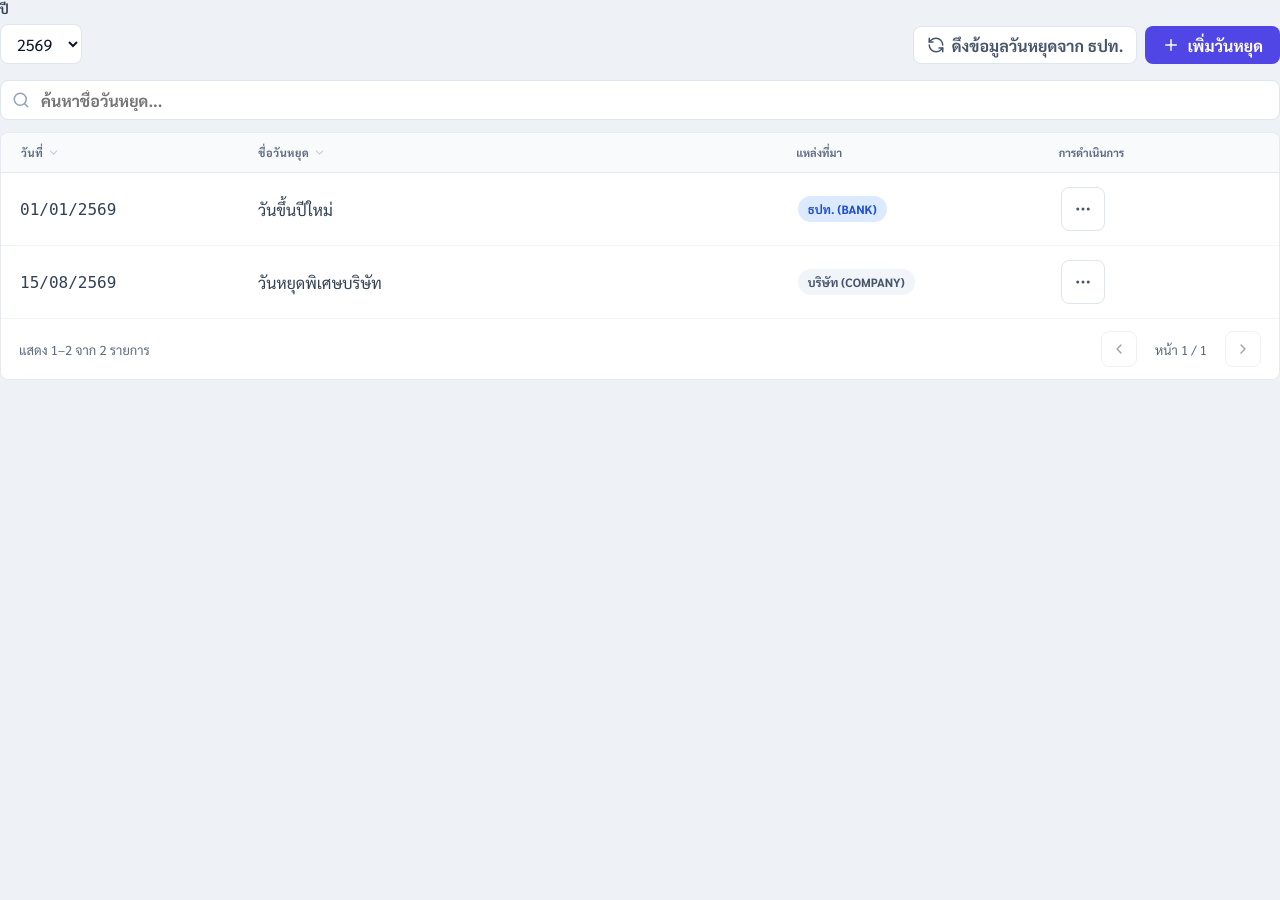
Scenario: HolidaysTab › shows the 409 duplicate-date message inline and offers "แก้ไขรายการเดิม" for a row already on screen
The width and height of the screenshot is (1280, 900).
Check: the text "วันขึ้นปีใหม่" is shown, box [257,198,785,220]
Click the button "เพิ่มวันหยุด". click: (1213, 45)
box: [1145,26,1279,64]
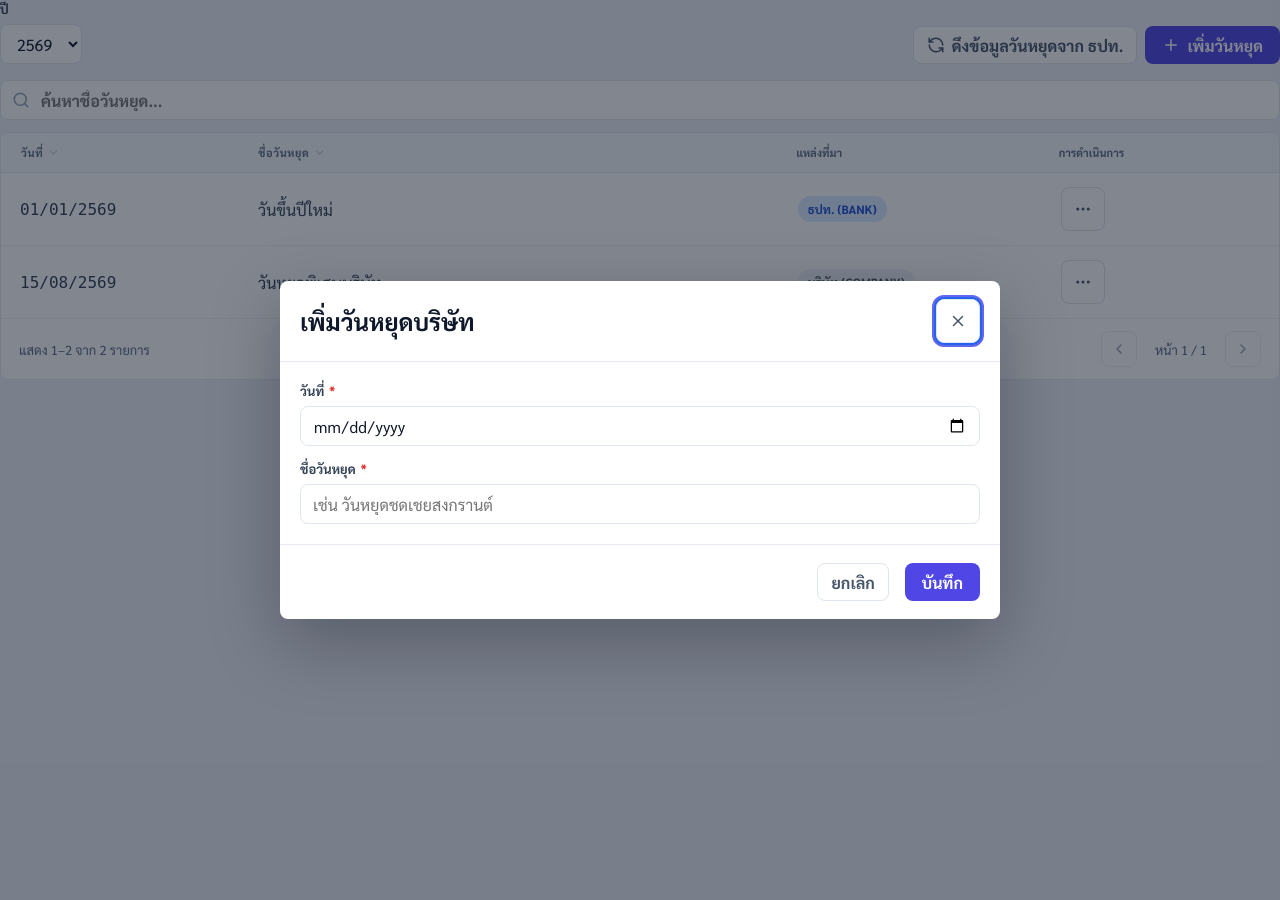
Type "2026-01-01" into the date field labelled "วันที่ *". click: (640, 426)
box: [300,406,980,446]
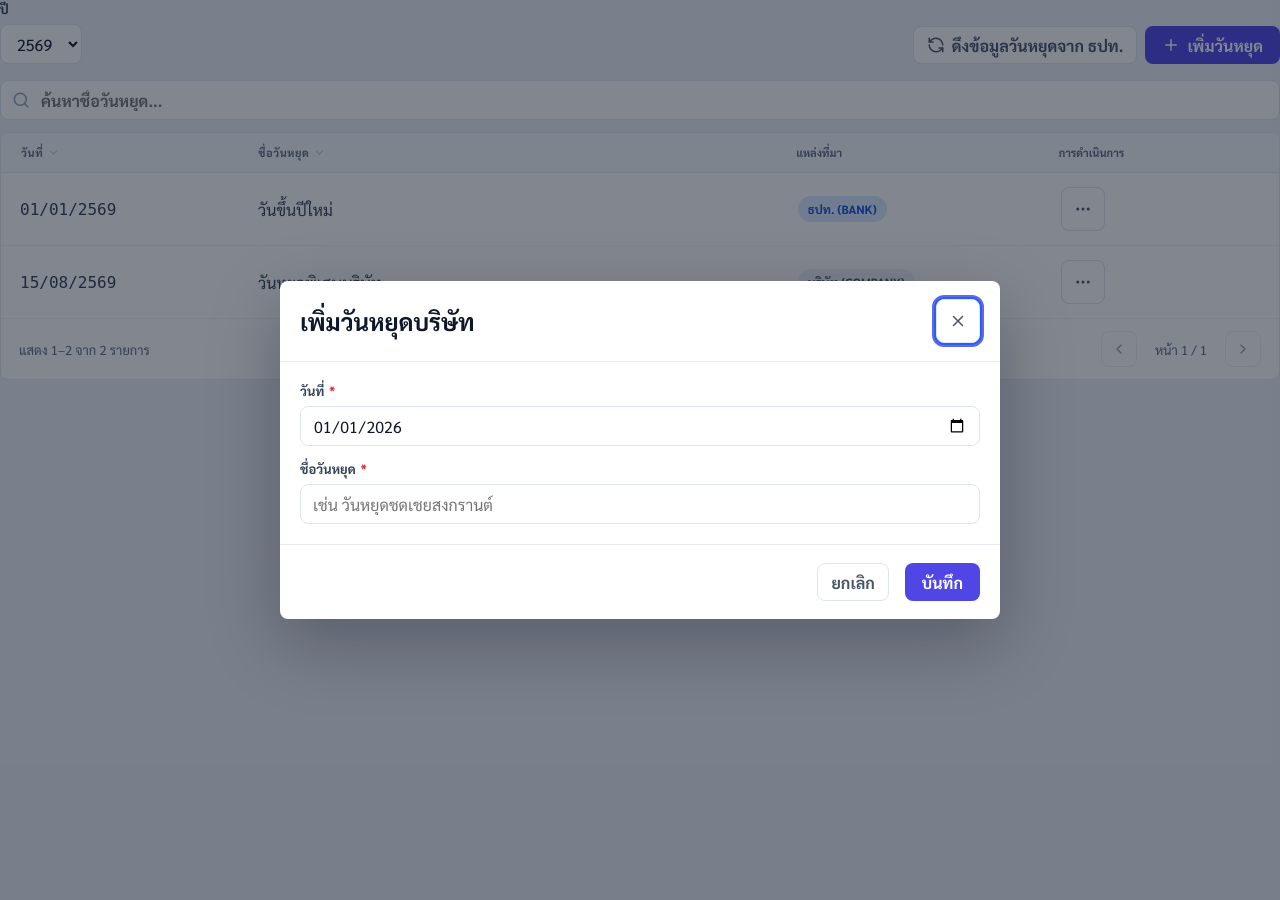
Type "ปีใหม่ (ซ้ำ)" into the field labelled "ชื่อวันหยุด *". click: (640, 504)
box: [300,484,980,524]
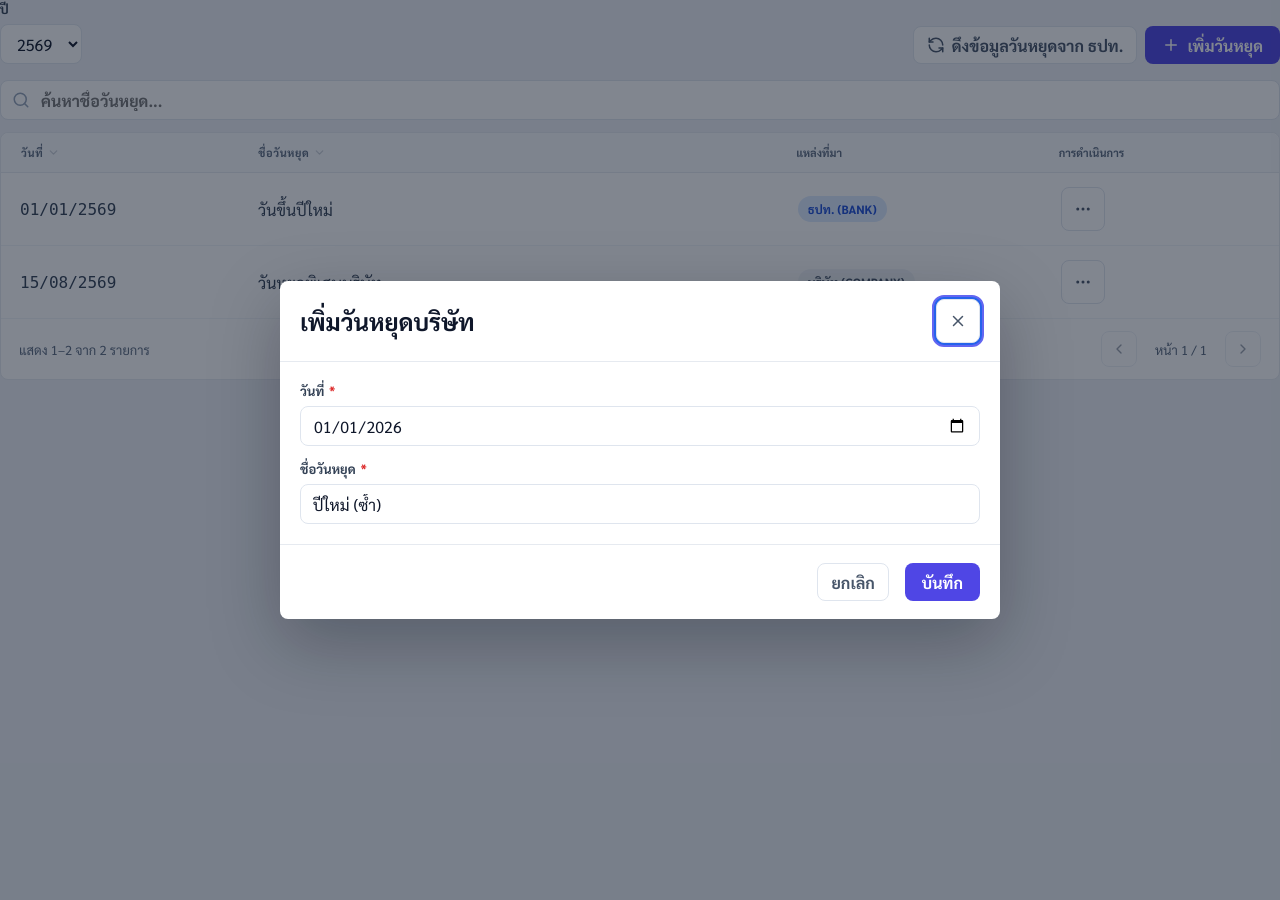
Click the button "บันทึก". click: (942, 582)
box: [905,563,980,601]
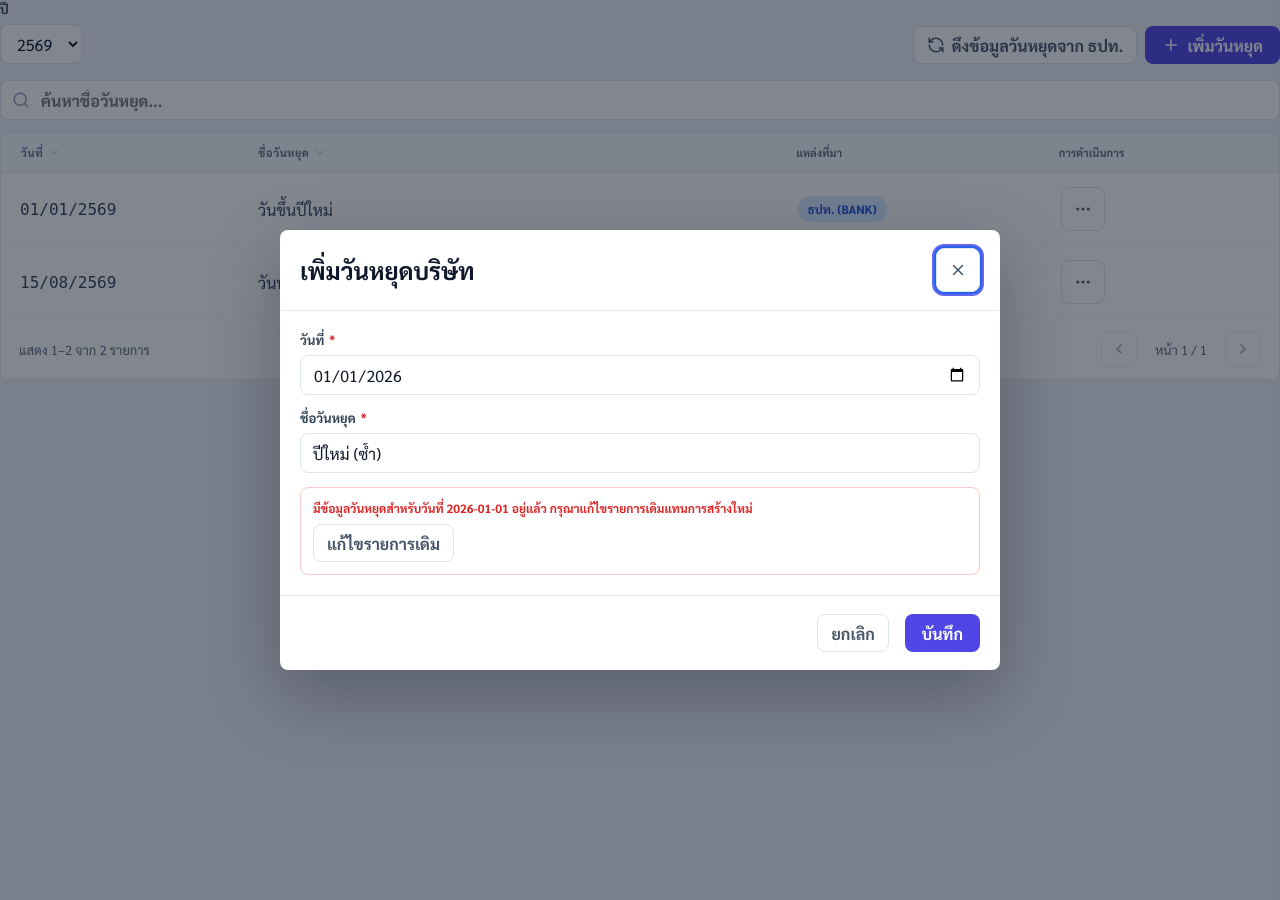
Check: the dialog is shown, box [280,230,1000,670]
Check: the text "กรุณาแก้ไขรายการเดิมแทนการสร้างใหม่" is shown, box [313,500,752,516]
Click the button "แก้ไขรายการเดิม". click: (384, 543)
box: [313,524,454,562]
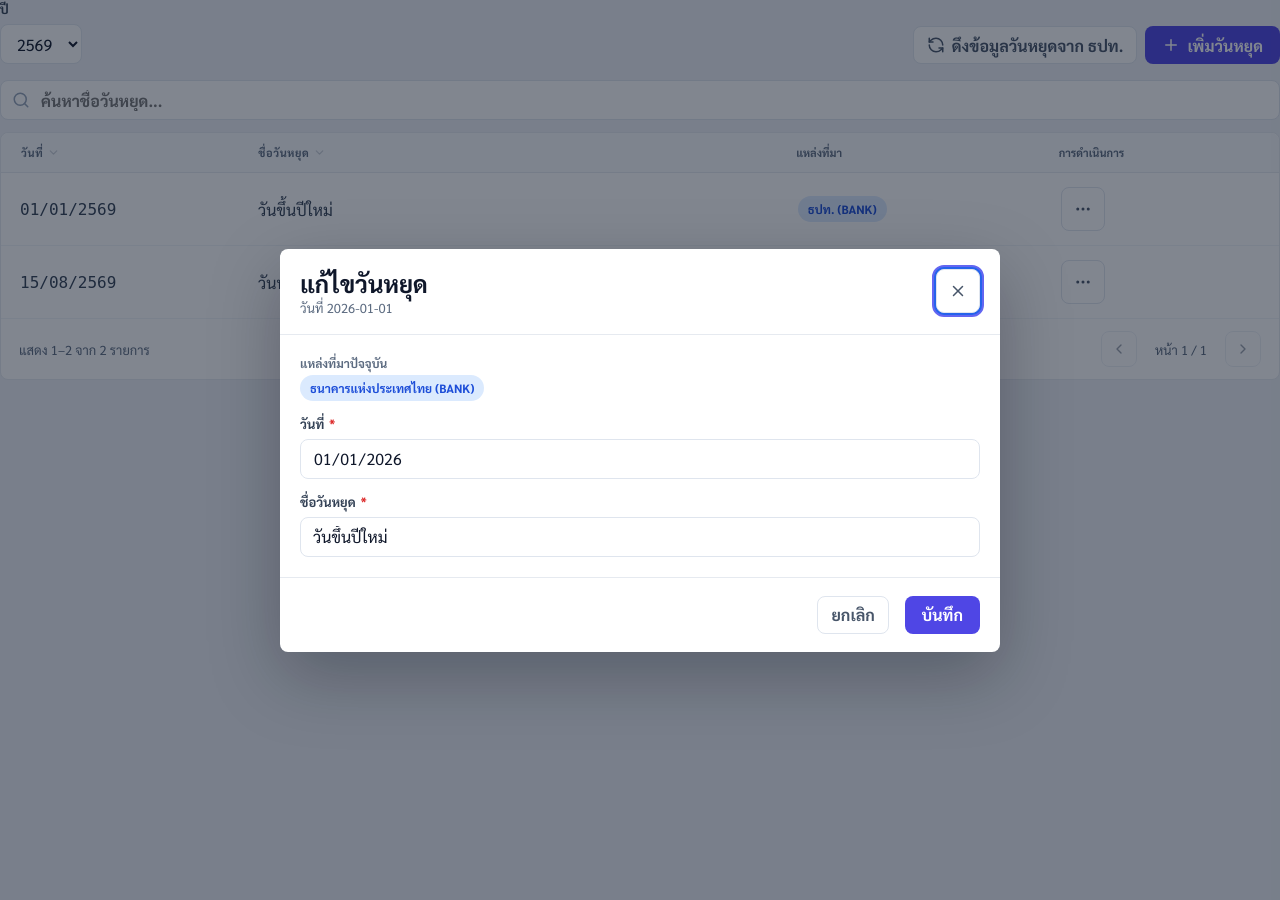
Check: the field labelled "ชื่อวันหยุด *" holds "วันขึ้นปีใหม่", box [300,516,980,556]
Check: the date field labelled "วันที่ *" is disabled, box [300,438,980,478]
